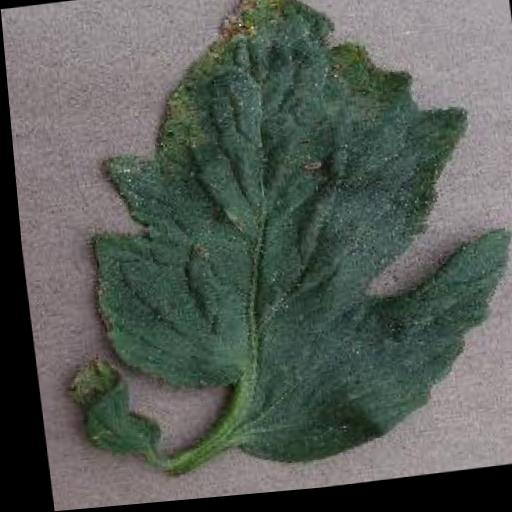Bacterial Spot: (55, 0, 512, 491)
